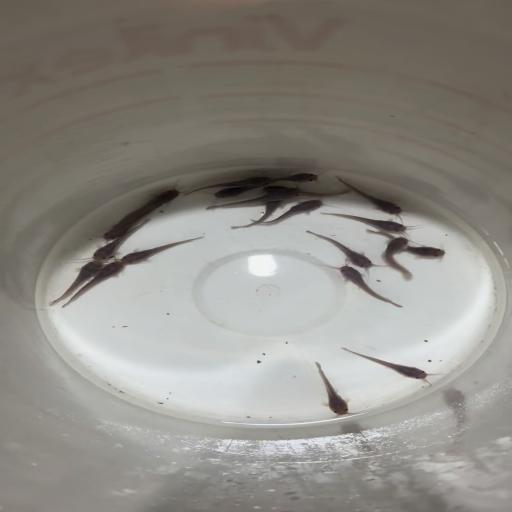lele: (338, 346, 442, 388), (333, 174, 416, 220), (62, 259, 130, 312), (329, 262, 405, 309), (301, 230, 381, 272), (356, 230, 458, 260), (307, 358, 356, 418), (87, 220, 155, 263), (41, 259, 103, 306), (121, 234, 206, 268), (194, 189, 300, 211), (319, 210, 414, 234), (256, 199, 328, 229), (180, 174, 274, 195), (122, 187, 182, 218), (100, 208, 154, 240), (381, 236, 417, 282), (261, 184, 354, 200), (236, 201, 283, 232), (257, 171, 326, 187), (210, 187, 257, 203)
